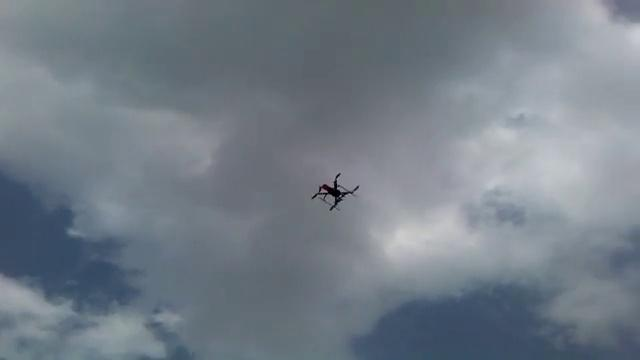drone: (308, 170, 360, 211)
